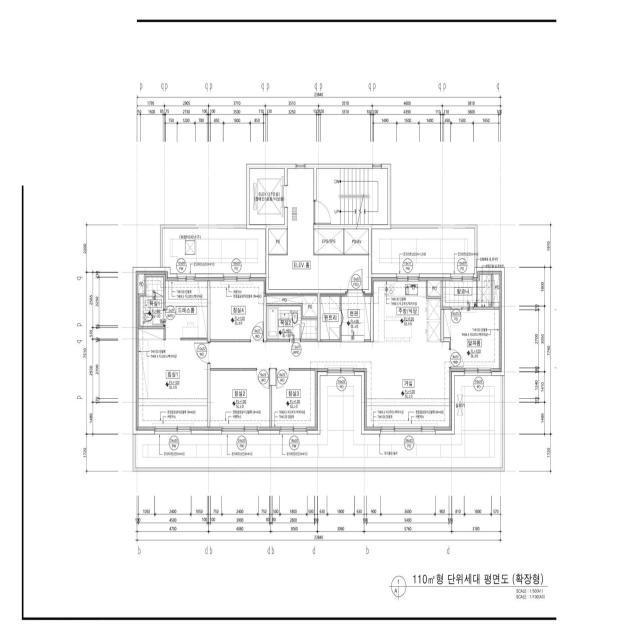space_balconi: (443, 281, 477, 307)
space_bedroom: (138, 329, 207, 427), (210, 370, 270, 427), (210, 281, 264, 340), (272, 370, 315, 427)
space_dressroom: (165, 280, 208, 338)
space_elevator: (249, 168, 285, 225)
space_elevator_hall: (269, 169, 369, 289)
space_front: (341, 296, 371, 340)
space_kitchen: (373, 281, 441, 342)
space_living_room: (210, 342, 449, 427)
space_other: (163, 228, 266, 274), (444, 309, 499, 368), (267, 296, 317, 317), (320, 296, 340, 340), (314, 229, 343, 254), (344, 229, 369, 254), (477, 274, 491, 307), (269, 229, 287, 254), (493, 274, 499, 307), (428, 281, 441, 296), (138, 274, 144, 294)
space_staircase: (316, 169, 388, 225)
space_toilet: (267, 306, 317, 340), (140, 277, 163, 326)
